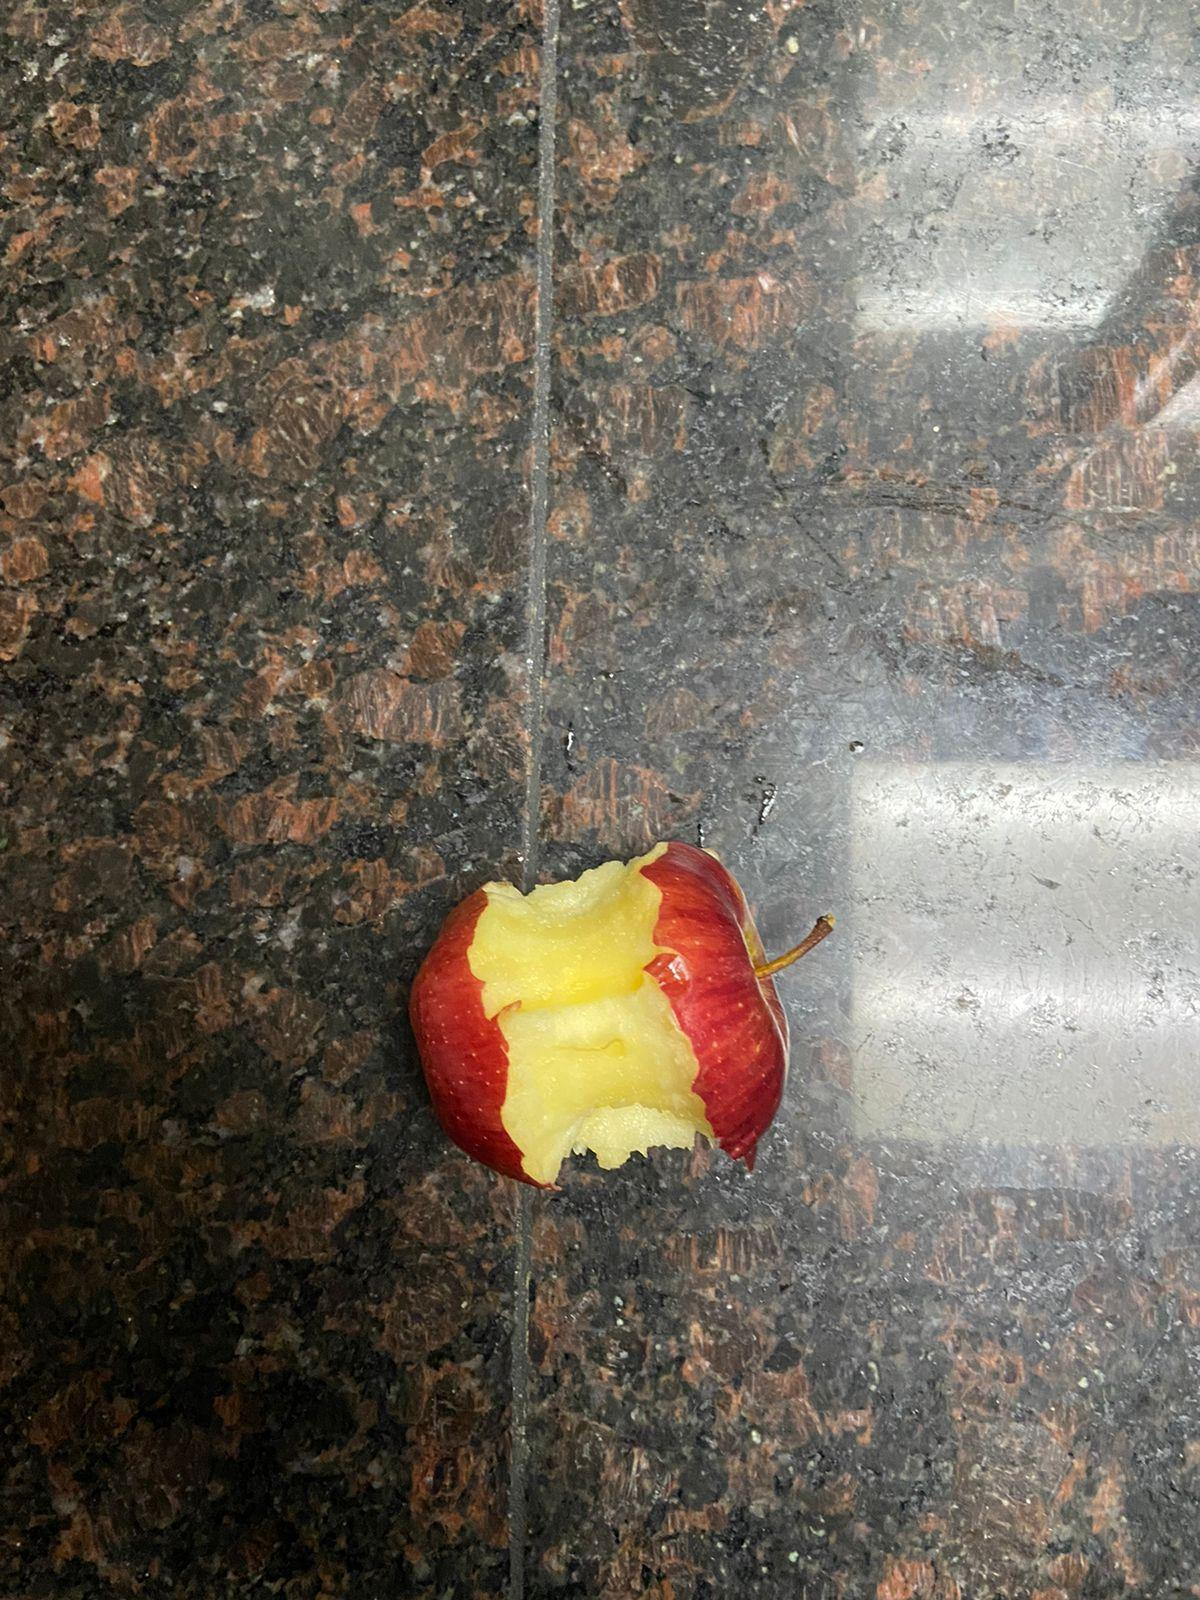Apple: (427, 844, 845, 1197)
